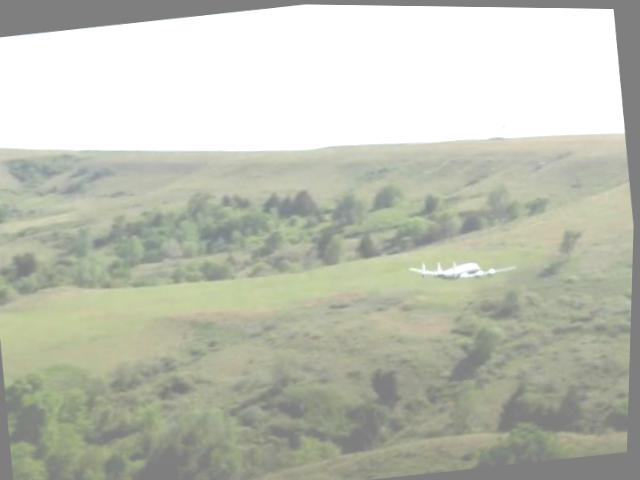iha: (413, 244, 519, 288)
